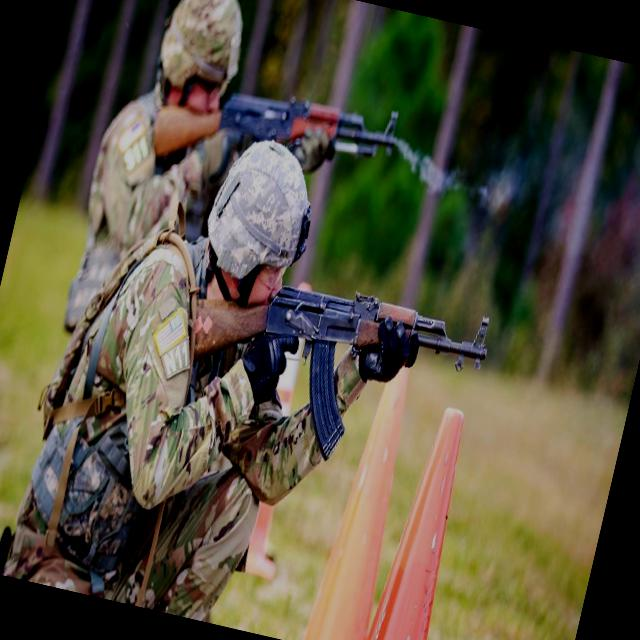long weapon: (249, 252, 508, 493), (146, 66, 442, 220)
